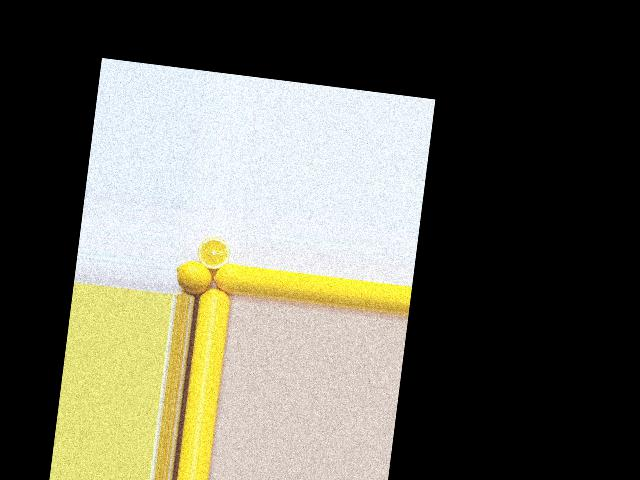lemon: (212, 262, 238, 291)
